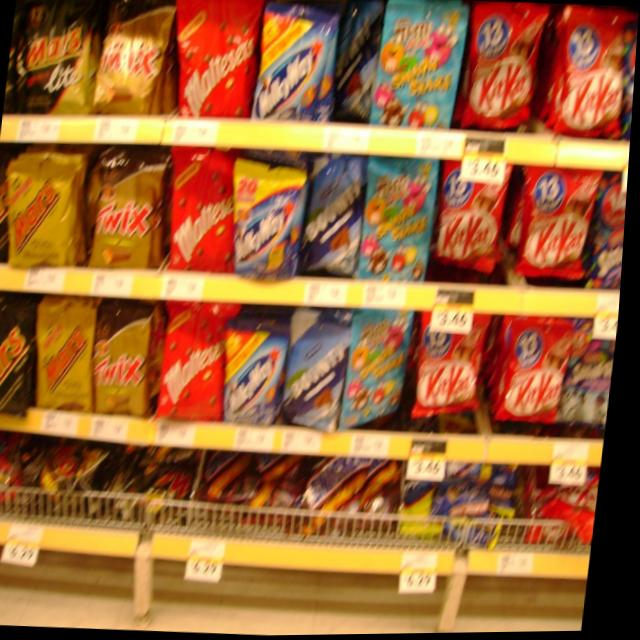q280: (457, 7, 550, 145), (512, 154, 605, 285), (489, 306, 584, 431), (431, 149, 521, 275), (554, 5, 627, 152), (422, 321, 494, 421)
